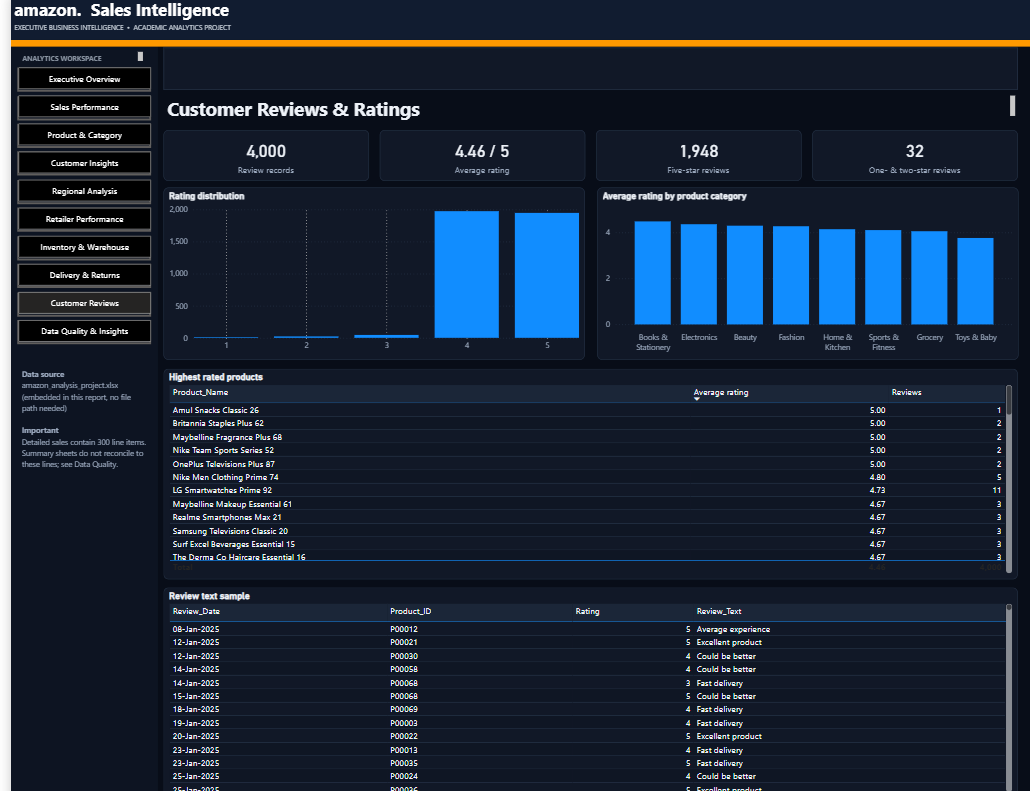

The page's visual inventory and layout, read from the dashboard file:
{"tool":"powerbi","page":{"name":"Customer Reviews","canvas":[1600,1300],"ordinal":8},"visuals":[{"type":"textbox","box":[0,70,230,1230],"z":0},{"type":"textbox","box":[0,0,1600,70],"z":1000},{"type":"textbox","box":[0,70,1600,4],"z":2000},{"type":"textbox","box":[12,84,200,24],"z":3000},{"type":"actionButton","box":[10,114,210,38],"z":4000},{"type":"actionButton","box":[10,158,210,38],"z":5000},{"type":"actionButton","box":[10,202,210,38],"z":6000},{"type":"actionButton","box":[10,246,210,38],"z":7000},{"type":"actionButton","box":[10,290,210,38],"z":8000},{"type":"actionButton","box":[10,334,210,38],"z":9000},{"type":"actionButton","box":[10,378,210,38],"z":10000},{"type":"actionButton","box":[10,422,210,38],"z":11000},{"type":"actionButton","box":[10,466,210,38],"z":12000},{"type":"actionButton","box":[10,510,210,38],"z":13000},{"type":"textbox","box":[12,580,206,250],"z":14000},{"type":"textbox","box":[240,82,1340,66],"z":15000},{"type":"textbox","box":[239.9,153.5,1341,52.2],"z":17000},{"type":"card","fields":{"Values":["_Measures.Review Records"]},"box":[240,212,322,80],"z":18000},{"type":"card","fields":{"Values":["_Measures.Avg Rating of 5"]},"box":[579,212,322,80],"z":19000},{"type":"card","fields":{"Values":["_Measures.Five Star Reviews"]},"box":[918,212,322,80],"z":20000},{"type":"card","fields":{"Values":["_Measures.Low Star Reviews"]},"box":[1257,212,322,80],"z":21000},{"type":"clusteredColumnChart","title":"Rating distribution","fields":{"Category":["Reviews.Rating"],"Y":["_Measures.Review Records"]},"box":[240,302,661,270],"z":22000},{"type":"clusteredColumnChart","title":"Average rating by product category","fields":{"Category":["Reviews.Category"],"Y":["_Measures.Avg Rating"]},"box":[919,302,661,270],"z":23000},{"type":"tableEx","title":"Highest rated products","fields":{"Values":["Reviews.Product_Name","_Measures.Avg Rating","_Measures.Review Records"]},"box":[240,586,1340,330],"z":24000},{"type":"tableEx","title":"Review text sample","fields":{"Values":["Reviews.Review_Date","Reviews.Product_ID","Reviews.Rating","Reviews.Review_Text"]},"box":[240,930,1340,330],"z":25000},{"type":"pageNavigator","box":[12,114,208,434],"z":26000}]}

Visuals, with their boxes on the page's 1600x1300 design canvas (x1, y1, x2, y2). These are canvas units, not pixel positions in the 1030x791 screenshot, which may show the page scaled, cropped or inside an application window:
textbox: BBox(0, 70, 230, 1300)
textbox: BBox(0, 0, 1600, 70)
textbox: BBox(0, 70, 1600, 74)
textbox: BBox(12, 84, 212, 108)
actionButton: BBox(10, 114, 220, 152)
actionButton: BBox(10, 158, 220, 196)
actionButton: BBox(10, 202, 220, 240)
actionButton: BBox(10, 246, 220, 284)
actionButton: BBox(10, 290, 220, 328)
actionButton: BBox(10, 334, 220, 372)
actionButton: BBox(10, 378, 220, 416)
actionButton: BBox(10, 422, 220, 460)
actionButton: BBox(10, 466, 220, 504)
actionButton: BBox(10, 510, 220, 548)
textbox: BBox(12, 580, 218, 830)
textbox: BBox(240, 82, 1580, 148)
textbox: BBox(240, 154, 1581, 206)
card - _Measures.Review Records: BBox(240, 212, 562, 292)
card - _Measures.Avg Rating of 5: BBox(579, 212, 901, 292)
card - _Measures.Five Star Reviews: BBox(918, 212, 1240, 292)
card - _Measures.Low Star Reviews: BBox(1257, 212, 1579, 292)
"Rating distribution" clusteredColumnChart: BBox(240, 302, 901, 572)
"Average rating by product category" clusteredColumnChart: BBox(919, 302, 1580, 572)
"Highest rated products" tableEx: BBox(240, 586, 1580, 916)
"Review text sample" tableEx: BBox(240, 930, 1580, 1260)
pageNavigator: BBox(12, 114, 220, 548)
